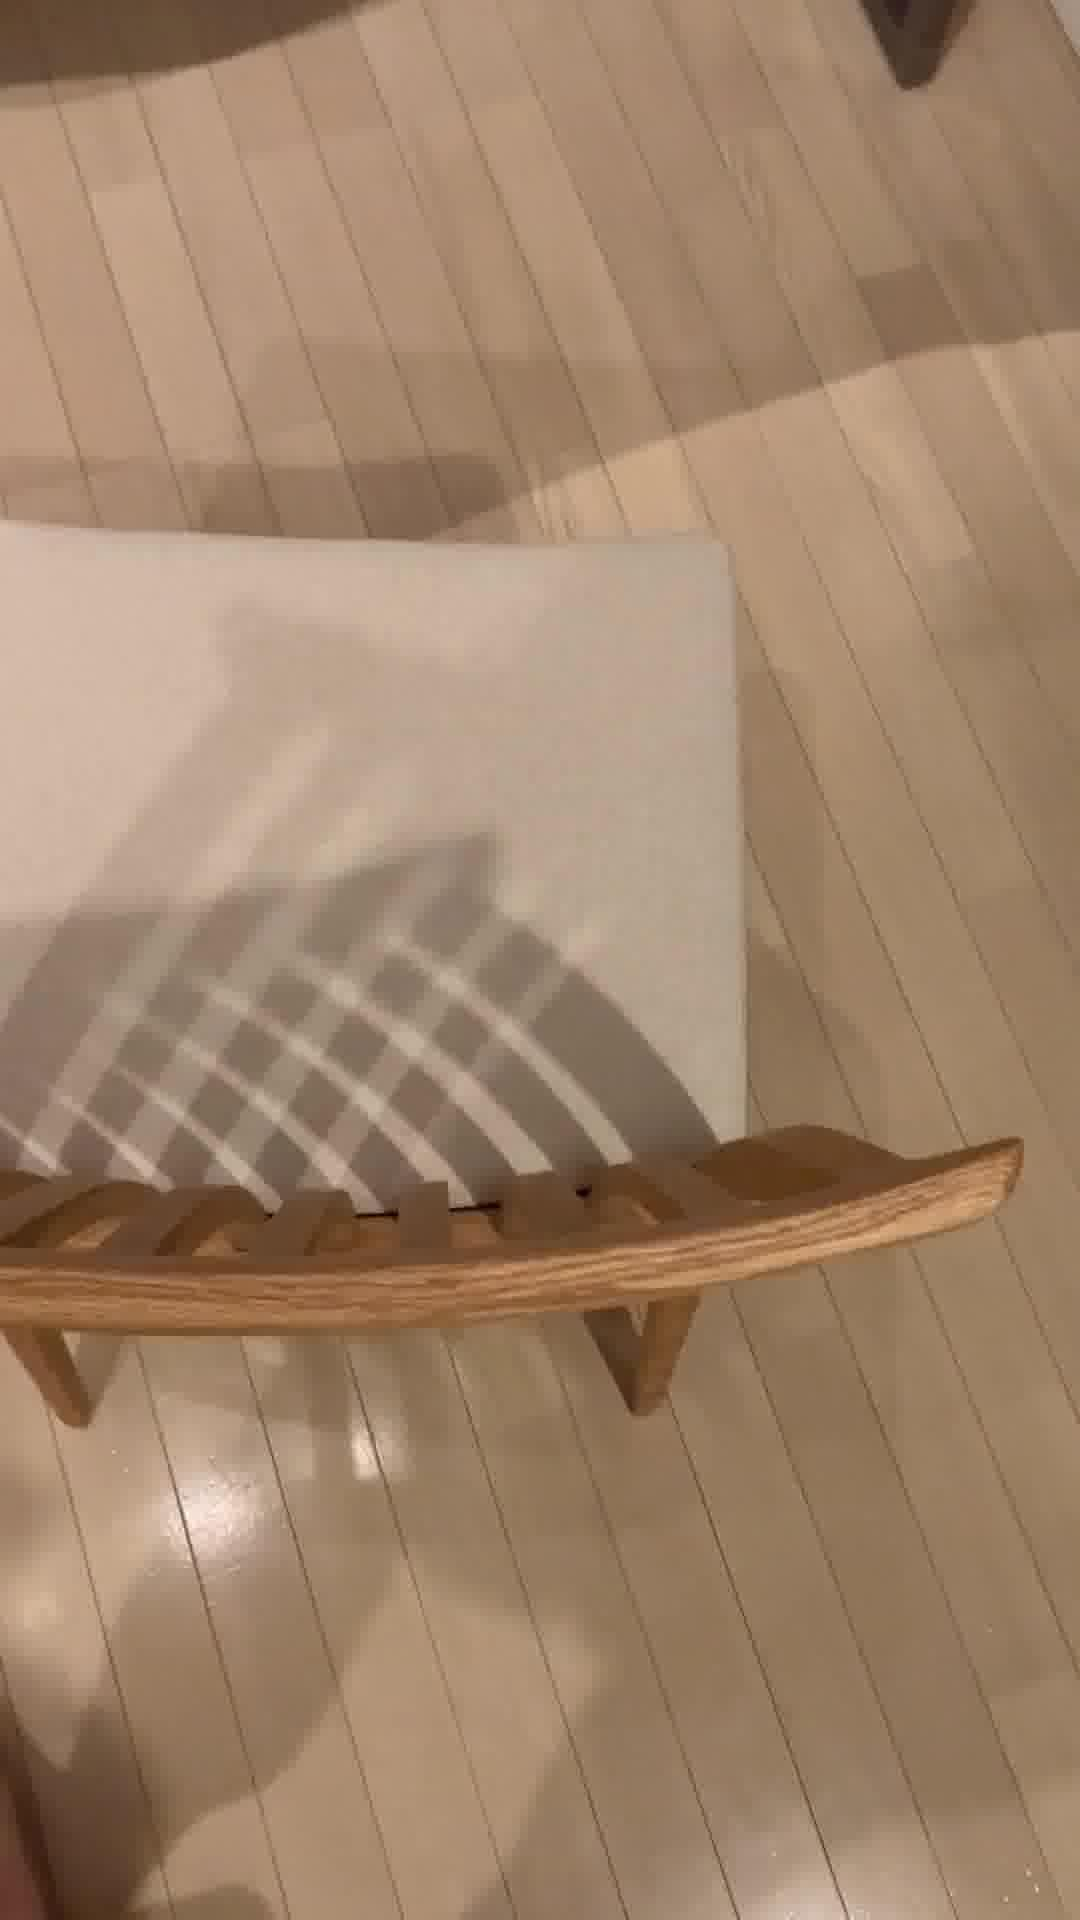takumikan-chair: (0, 510, 1027, 1427)
